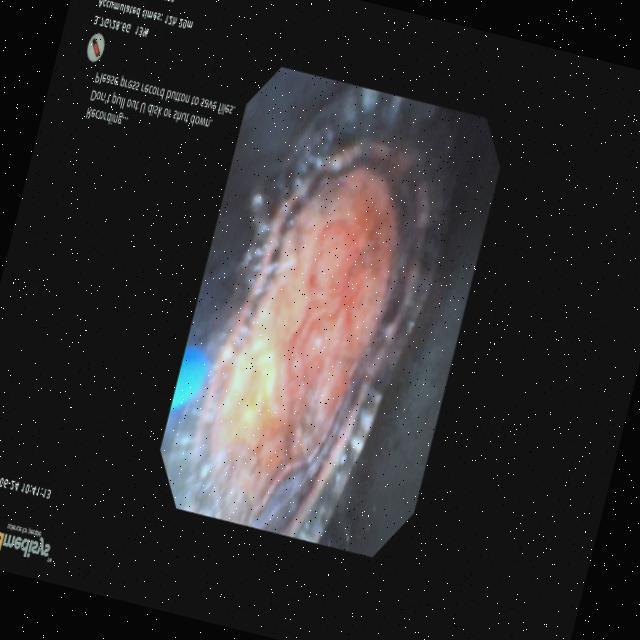stone-new: (160, 86, 448, 542)
